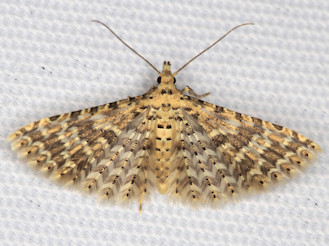Alucitidae: (1, 16, 319, 215)
moth: (3, 18, 321, 217)
